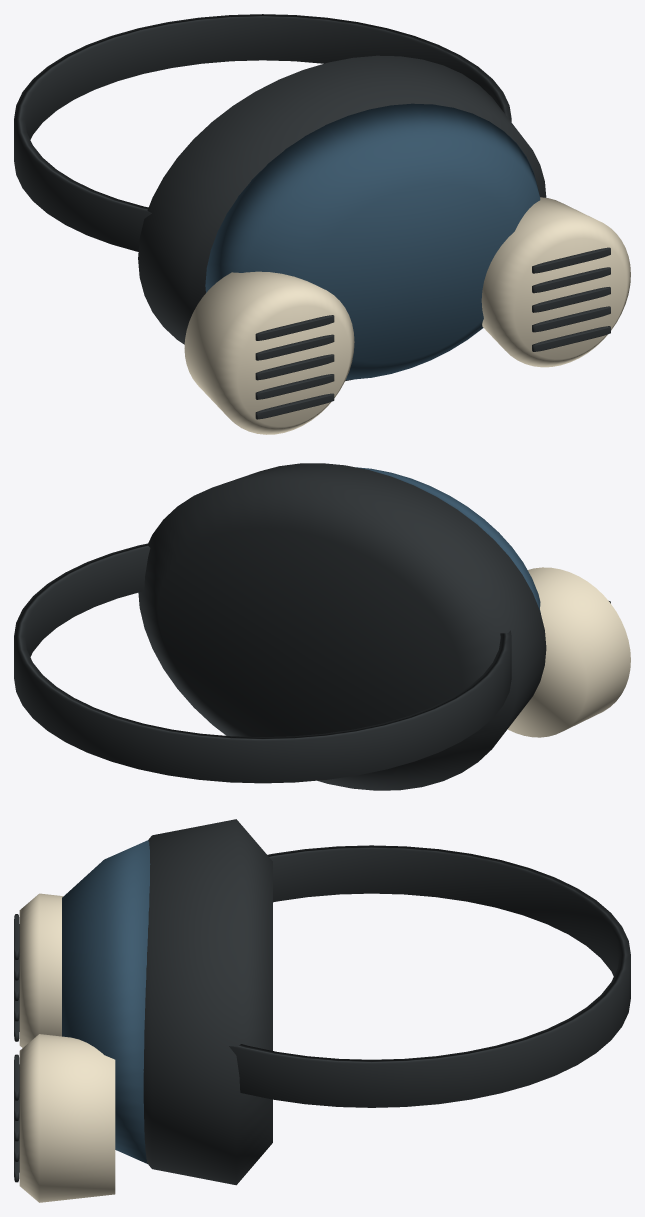
The model's file is 05-respirator.glb.
The picture shows the model from 3 angles, top to bottom: view 1: azimuth 30°, elevation 25°; view 2: azimuth 150°, elevation 25°; view 3: azimuth 270°, elevation 25°; orthographic projection. The views are drawn at different scales.
Parts seen in each view (by area): view 1: 05-respirator; view 2: 05-respirator; view 3: 05-respirator.
Boxes of the visible parts, <box> form: 05-respirator: <box>14,14,630,434</box>; 05-respirator: <box>14,463,630,790</box>; 05-respirator: <box>14,819,630,1202</box>.
Size of the model in its own units: 0.184 by 0.122 by 0.219.
